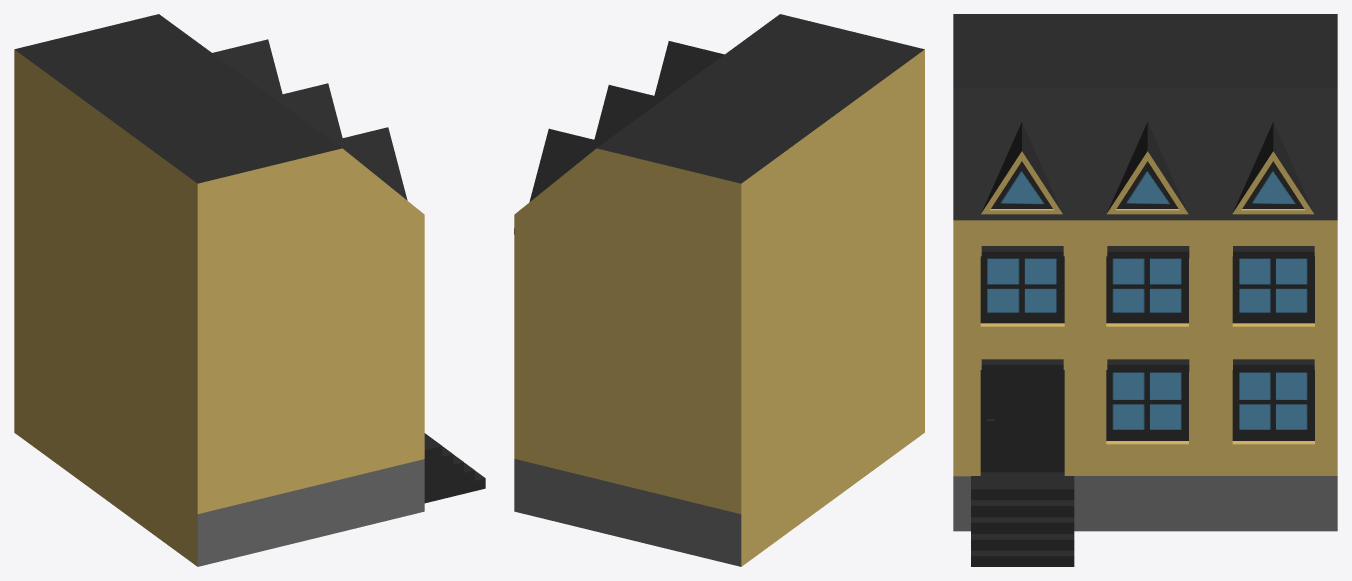
Rendered from NormalTriangleYellow.obj.
The picture shows the model from 3 angles, left to right: view 1: azimuth 30°, elevation 25°; view 2: azimuth 150°, elevation 25°; view 3: azimuth 270°, elevation 25°; orthographic projection. The views are drawn at different scales.
Visible parts, largest first — view 1: ZwyklyTrojkatnyZolty; view 2: ZwyklyTrojkatnyZolty; view 3: ZwyklyTrojkatnyZolty.
Boxes of the visible parts, box(x1,y1,x2,y2) form: ZwyklyTrojkatnyZolty: box(14, 14, 485, 566); ZwyklyTrojkatnyZolty: box(514, 14, 924, 566); ZwyklyTrojkatnyZolty: box(953, 14, 1337, 566).
Size of the model in its own units: 6.53 by 8.07 by 7.
